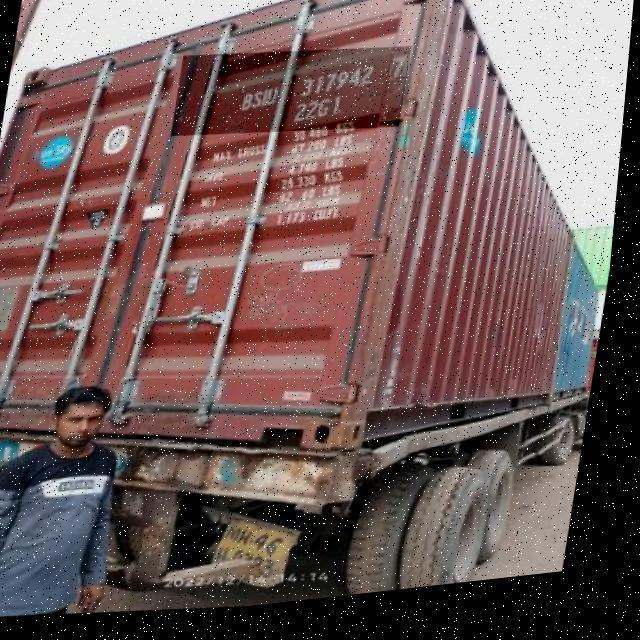container_number_h: (172, 39, 414, 156)
